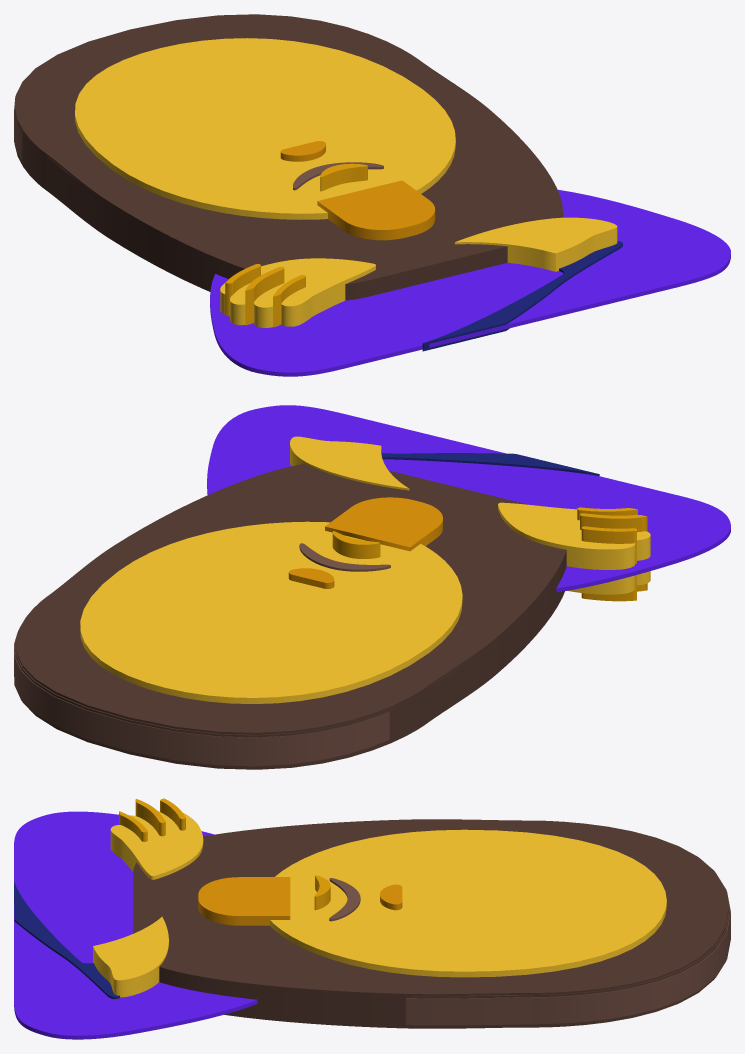
The model's file is emoji_u1f64e_200d_2640.glb.
3 renders of one model, top to bottom at view 1: azimuth 30°, elevation 25°; view 2: azimuth 150°, elevation 25°; view 3: azimuth 270°, elevation 25°, orthographic. The views are drawn at different scales.
Parts seen in each view (by area): view 1: emoji_u1f64e_200d_2640; view 2: emoji_u1f64e_200d_2640; view 3: emoji_u1f64e_200d_2640.
Boxes of the visible parts, x1,y1,x2,y2 form: emoji_u1f64e_200d_2640: (14,14,730,376); emoji_u1f64e_200d_2640: (14,405,730,769); emoji_u1f64e_200d_2640: (14,798,730,1039).
Size of the model in its own units: 0.025 by 0.0038 by 0.0338.
